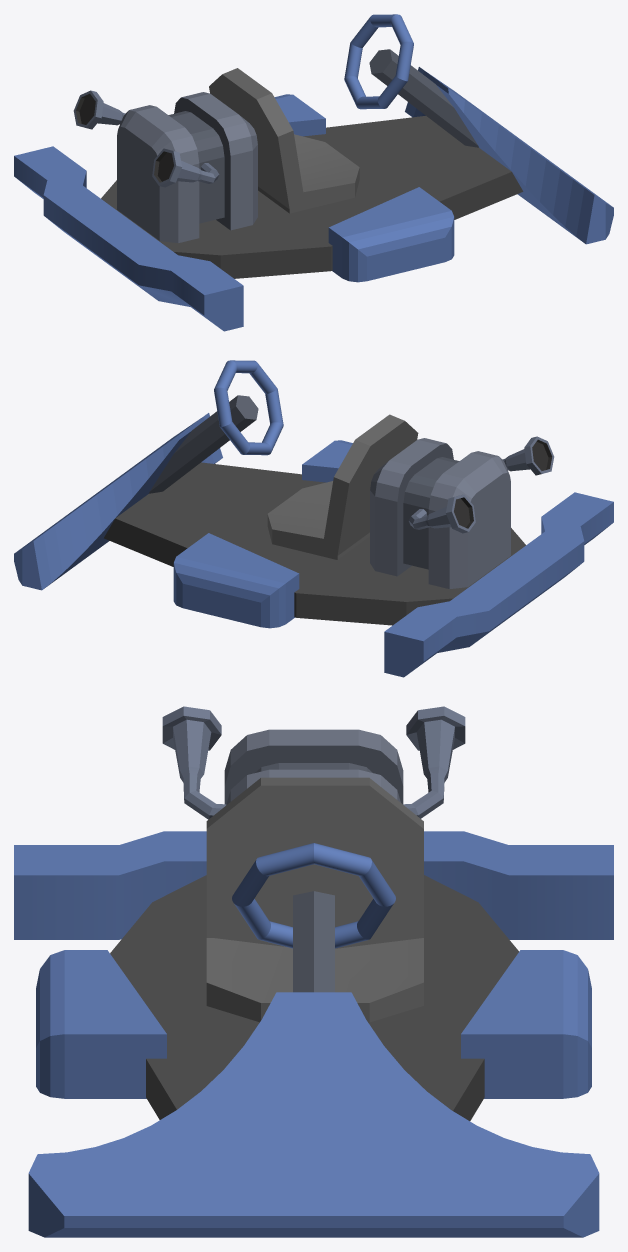
Rendered from Kart.fbx.
The picture shows the model from 3 angles, top to bottom: view 1: azimuth 30°, elevation 25°; view 2: azimuth 150°, elevation 25°; view 3: azimuth 270°, elevation 25°; orthographic projection. The views are drawn at different scales.
Visible parts, largest first — view 1: pCube4, pCube8, pCube6, pCube7, pCube5, pCube3, pCube2, pTorus2, pCylinder1, Engine_Pipe_R, Engine_Pipe_L; view 2: pCube4, pCube8, pCube6, pCube7, pCube5, pCube3, pCube2, pTorus2, pCylinder1, Engine_Pipe_L, Engine_Pipe_R; view 3: pCube5, pCube4, pCube7, pCube6, pCube3, pCube2, pCube8, pTorus2, pCylinder1, Engine_Pipe_R, Engine_Pipe_L.
Boxes of the visible parts, x1,y1,x2,y2 form: pCube4: [101, 116, 523, 278]; pCube8: [117, 92, 257, 243]; pCube6: [14, 146, 243, 331]; pCube7: [274, 94, 454, 282]; pCube5: [405, 67, 613, 244]; pCube3: [209, 68, 303, 208]; pCube2: [258, 134, 359, 213]; pTorus2: [344, 14, 413, 109]; pCylinder1: [369, 49, 478, 147]; Engine_Pipe_R: [152, 148, 219, 187]; Engine_Pipe_L: [73, 90, 125, 129]; pCube4: [104, 462, 525, 625]; pCube8: [370, 438, 510, 589]; pCube6: [384, 492, 613, 677]; pCube7: [173, 440, 352, 628]; pCube5: [14, 413, 222, 590]; pCube3: [323, 414, 418, 557]; pCube2: [267, 481, 369, 559]; pTorus2: [214, 360, 283, 455]; pCylinder1: [149, 395, 258, 493]; Engine_Pipe_L: [408, 494, 475, 533]; Engine_Pipe_R: [502, 436, 554, 475]; pCube5: [28, 992, 599, 1237]; pCube4: [110, 875, 518, 1120]; pCube7: [36, 950, 591, 1098]; pCube6: [14, 831, 613, 939]; pCube3: [206, 777, 423, 948]; pCube2: [206, 938, 423, 1022]; pCube8: [224, 729, 403, 805]; pTorus2: [232, 843, 395, 948]; pCylinder1: [293, 891, 334, 992]; Engine_Pipe_R: [162, 706, 226, 819]; Engine_Pipe_L: [403, 706, 465, 818].
Size of the model in its own units: 113 by 45.71 by 84.08.
